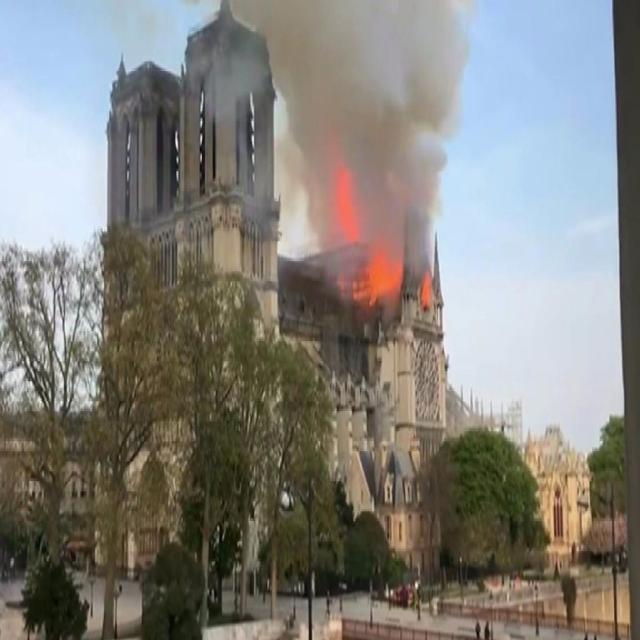Fire: (331, 150, 356, 244), (365, 264, 407, 294), (420, 262, 436, 308)
Smoke: (201, 0, 471, 309)
